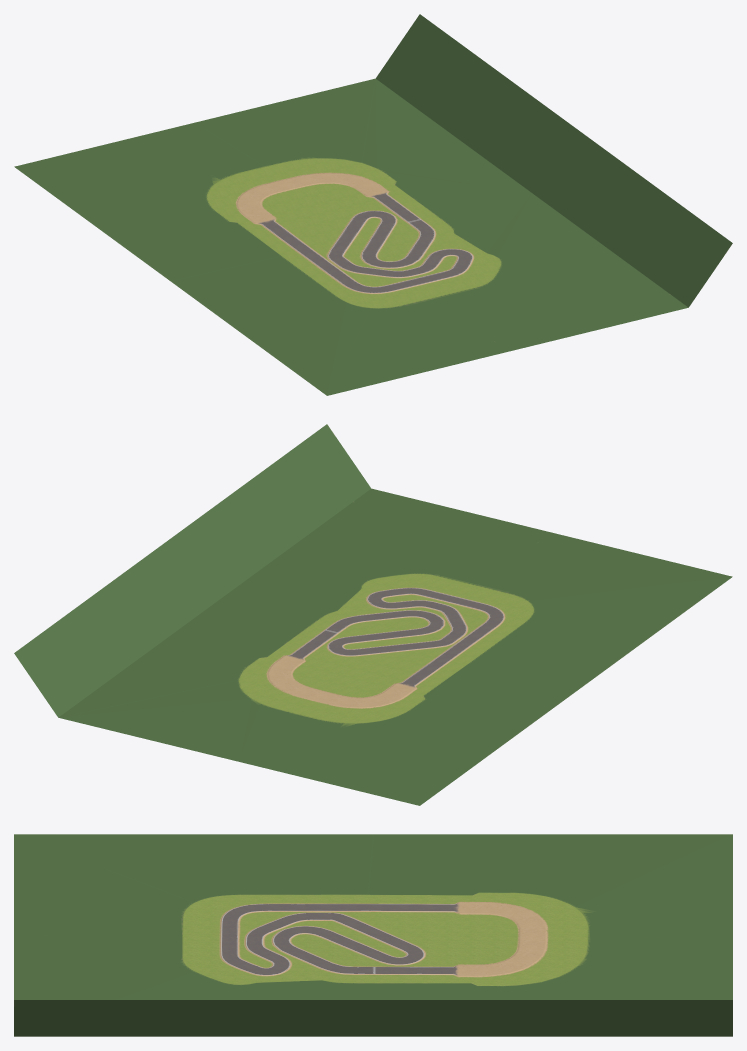
The model's file is Track.obj.
3 renders of one model, top to bottom at view 1: azimuth 30°, elevation 25°; view 2: azimuth 150°, elevation 25°; view 3: azimuth 270°, elevation 25°, orthographic. The views are drawn at different scales.
Visible parts, largest first — view 1: Terrain_Cube.002; view 2: Terrain_Cube.002; view 3: Terrain_Cube.002.
Part boxes in pixels (box(x1,y1,x2,y2)): Terrain_Cube.002: box(14, 14, 732, 395); Terrain_Cube.002: box(14, 424, 732, 805); Terrain_Cube.002: box(14, 834, 732, 1036).
Bounding box in the file's own units: 152 × 19.17 × 203.
1 material, 1 textured.
